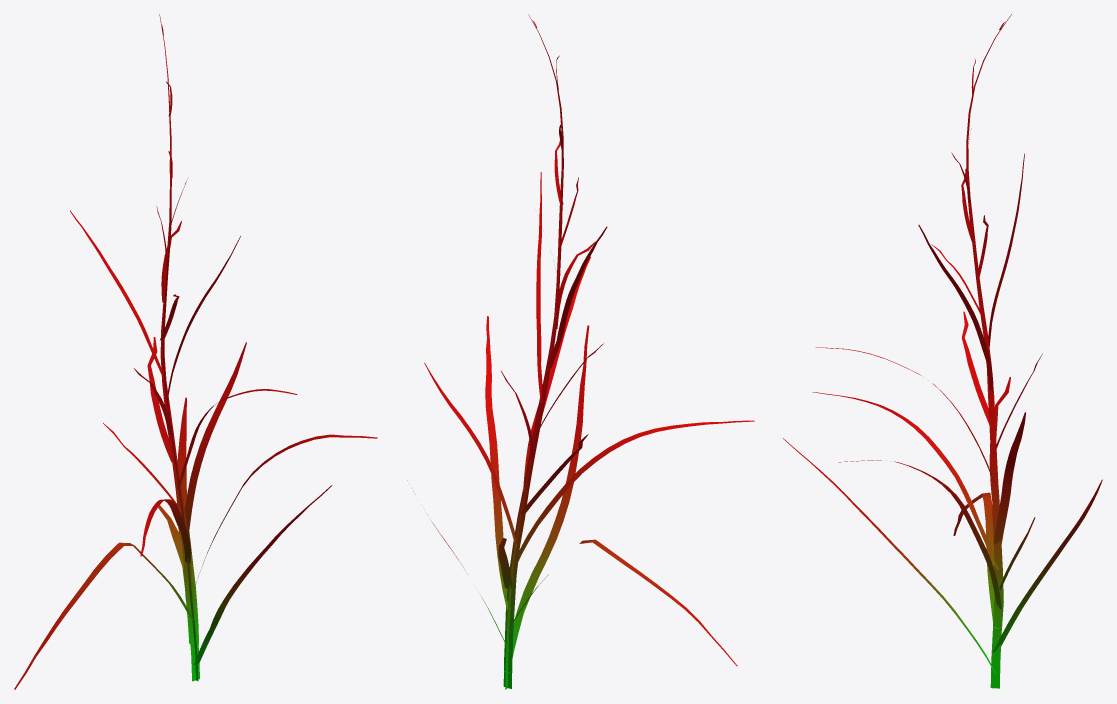
File: Swamp Grass_LOD1_Var7_tefocd1r.fbx
The picture shows the model from 3 angles, left to right: view 1: azimuth 30°, elevation 25°; view 2: azimuth 150°, elevation 25°; view 3: azimuth 270°, elevation 25°; orthographic projection. The views are drawn at different scales.
Parts seen in each view (by area): view 1: merge1; view 2: merge1; view 3: merge1.
Boxes of the visible parts, x1,y1,x2,y2 form: merge1: (14, 14, 377, 689); merge1: (407, 14, 754, 689); merge1: (783, 14, 1102, 688).
Bounding box in the file's own units: 35.86 × 75.41 × 33.08.
